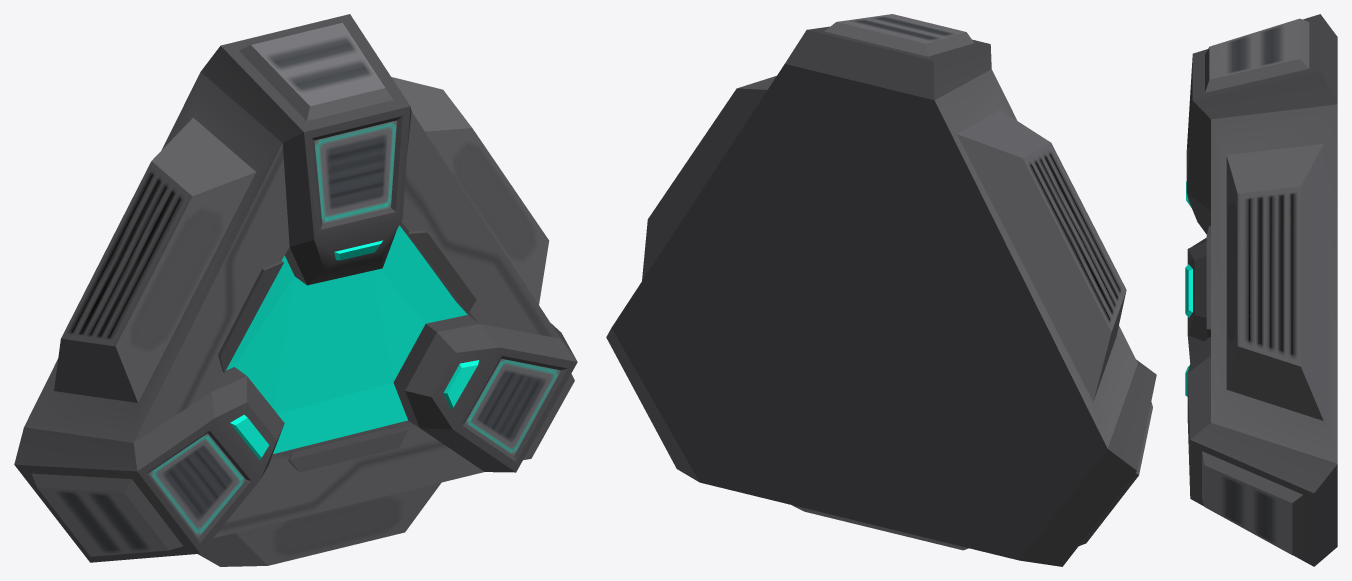
Rendered from SM_Prop_Street_Light_07.fbx.
3 views of the same model, side by side, from view 1: azimuth 30°, elevation 25°; view 2: azimuth 150°, elevation 25°; view 3: azimuth 270°, elevation 25° (orthographic). The views are drawn at different scales.
Visible parts, largest first — view 1: SM_Prop_Street_Light_07; view 2: SM_Prop_Street_Light_07; view 3: SM_Prop_Street_Light_07.
Part boxes in pixels (x1,y1,x2,y2): SM_Prop_Street_Light_07: [14, 14, 577, 566]; SM_Prop_Street_Light_07: [606, 14, 1156, 566]; SM_Prop_Street_Light_07: [1185, 14, 1337, 566].
Size of the model in its own units: 66.35 by 59.51 by 17.85.
